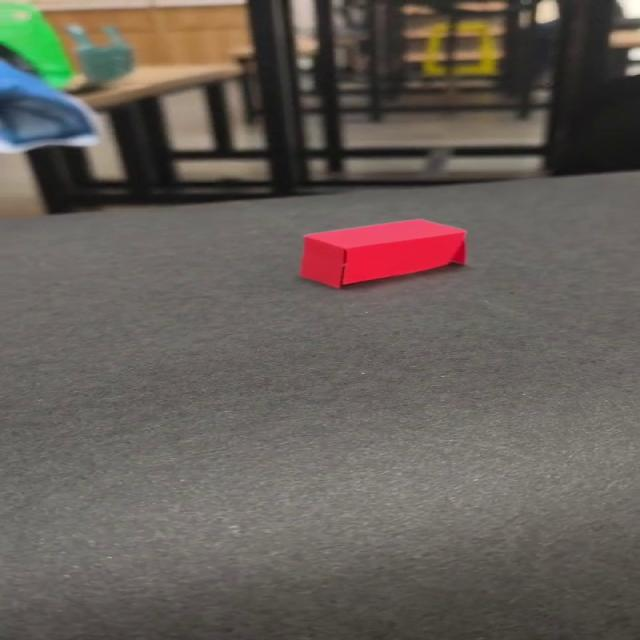red block: (297, 217, 467, 289)
